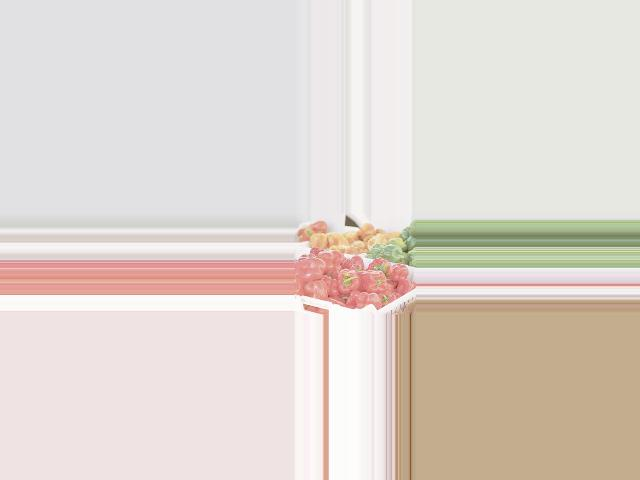bell_pepper: (346, 291, 381, 311)
